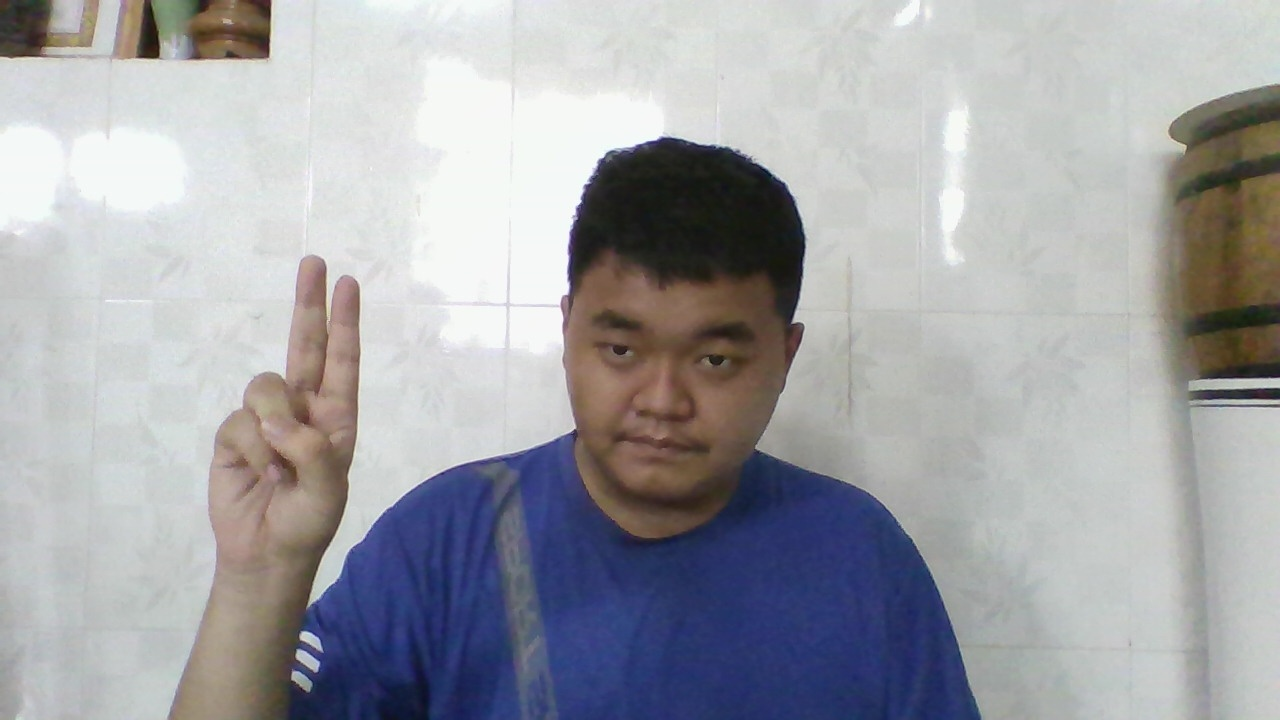U: (213, 249, 360, 576)
